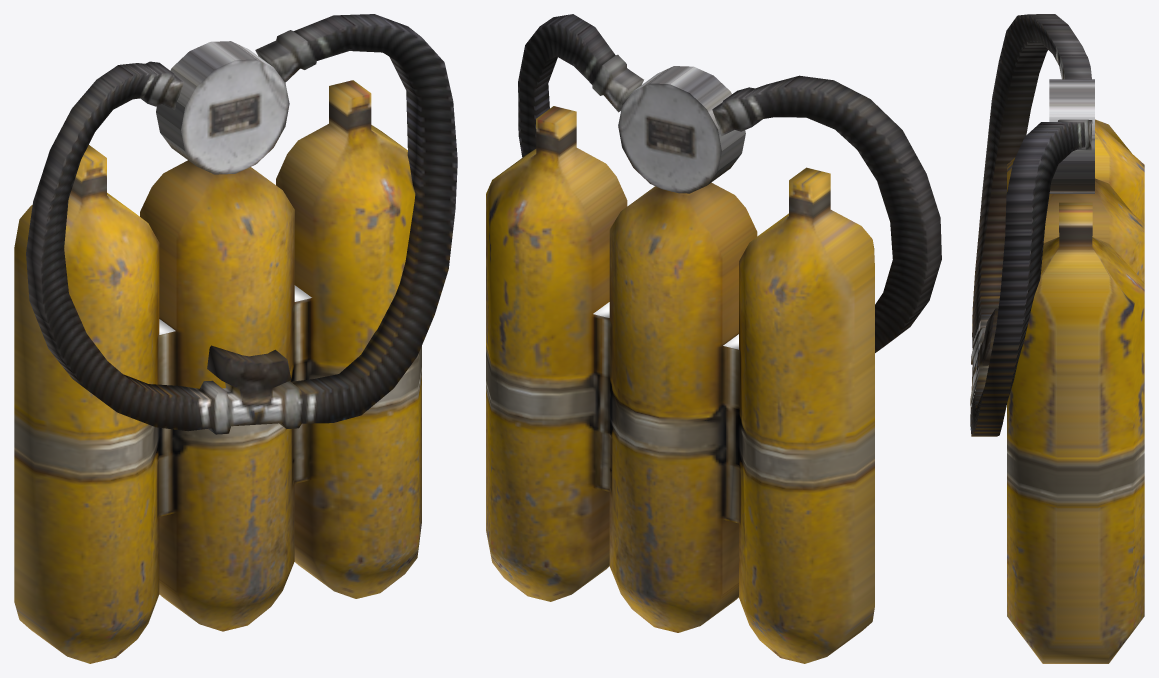
The model's file is collectable_tank.fbx.
3 views of the same model, side by side, from view 1: azimuth 30°, elevation 25°; view 2: azimuth 150°, elevation 25°; view 3: azimuth 270°, elevation 25° (orthographic). The views are drawn at different scales.
Visible parts, largest first — view 1: suit; view 2: suit; view 3: suit.
Part boxes in pixels (left/top/right/bottom): suit: left=14, top=14, right=457, bottom=663; suit: left=486, top=14, right=941, bottom=663; suit: left=970, top=14, right=1144, bottom=663.
Bounding box in the file's own units: 45.1 × 59.02 × 17.65.
1 material, 1 textured.
